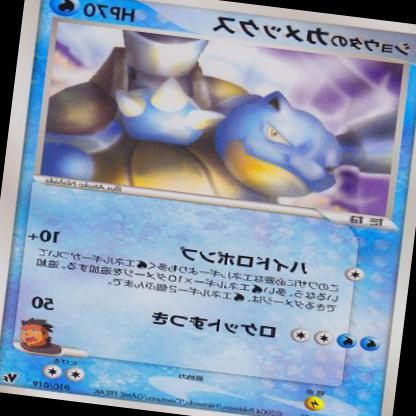Blastoise: (42, 24, 399, 217)
